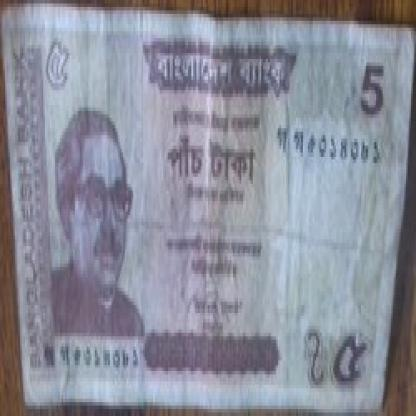Five Taka: (344, 49, 391, 128), (326, 322, 368, 406), (40, 31, 83, 108)
